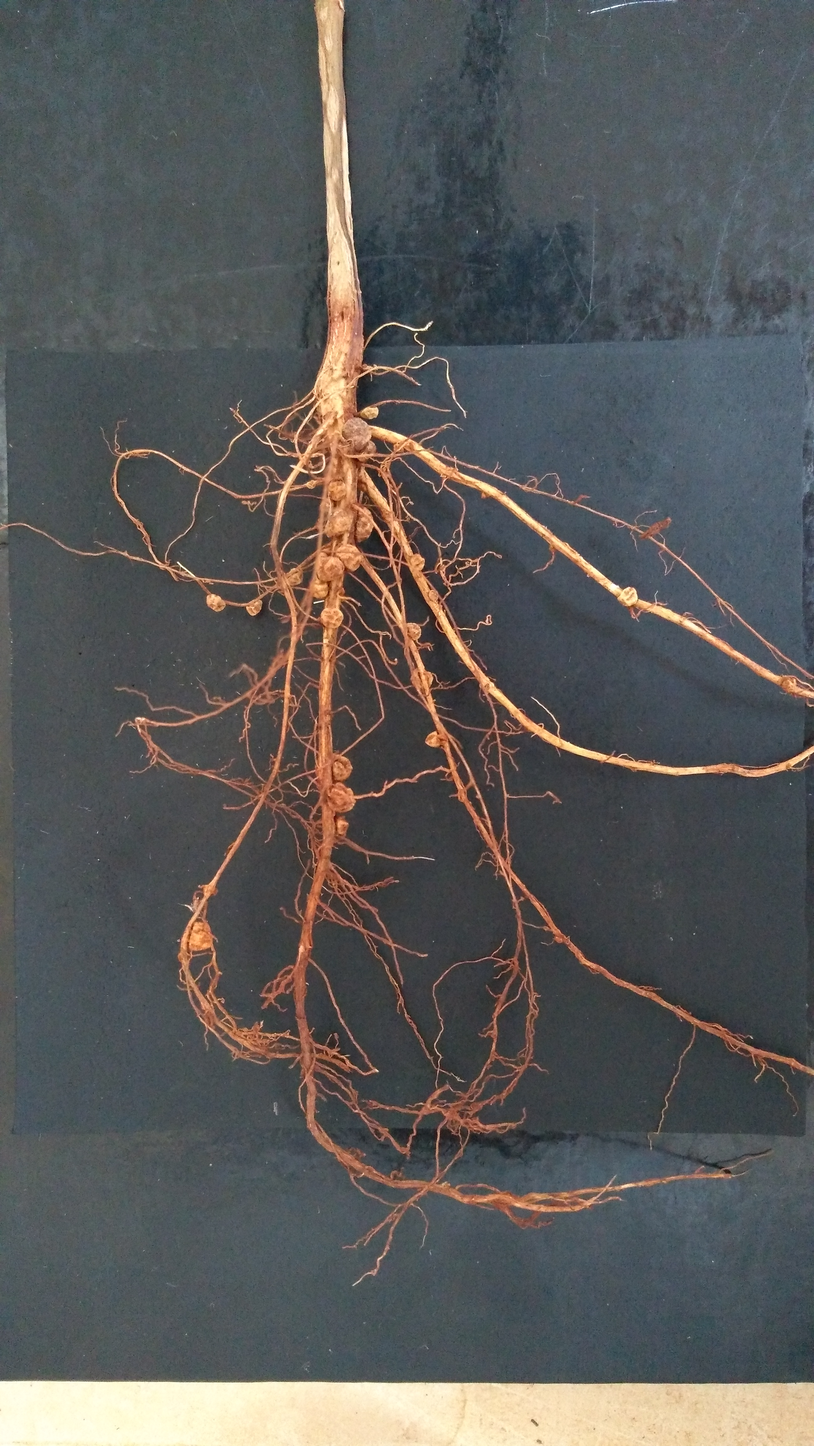nodule: (342, 417, 371, 451), (315, 755, 352, 781), (334, 543, 365, 572), (326, 783, 355, 813), (324, 507, 352, 538), (317, 552, 345, 582), (355, 503, 374, 542), (188, 921, 212, 951), (410, 667, 433, 689), (321, 607, 344, 628), (355, 440, 375, 461), (327, 479, 346, 501), (332, 815, 349, 839), (617, 586, 637, 606), (425, 731, 448, 747), (313, 577, 329, 599), (206, 594, 225, 612), (284, 568, 302, 586), (405, 622, 421, 641), (410, 553, 425, 570), (360, 406, 378, 420), (246, 600, 262, 615), (202, 884, 218, 897), (429, 590, 439, 603), (480, 489, 492, 498), (306, 480, 316, 489), (554, 935, 564, 944), (252, 1024, 261, 1032)
